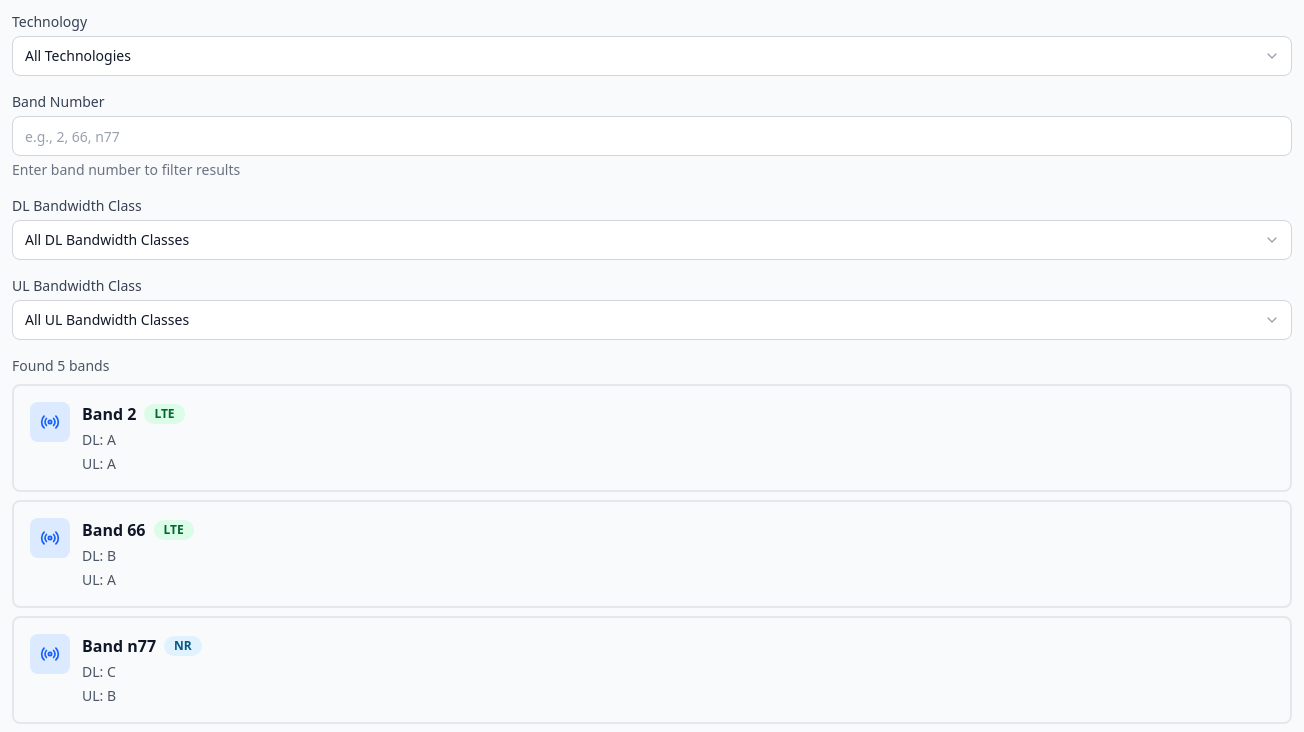
Scenario: BandSearch › Bandwidth class filtering › filters bands by both DL and UL bandwidth classes
Expected: the text "Found 5 bands" is shown, [12, 356, 109, 375]
Select "A" in the dropdown labelled "DL Bandwidth Class": (652, 240) [12, 220, 1292, 260]
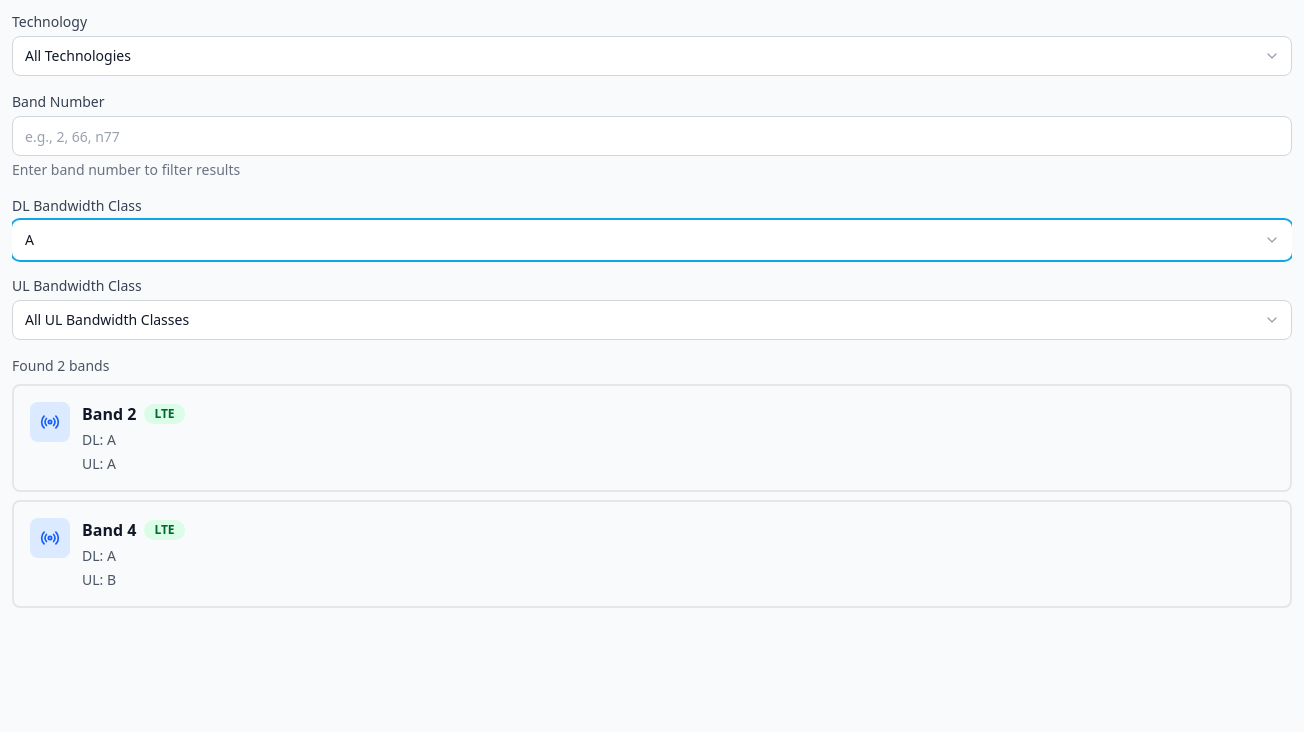
Select "A" in the dropdown labelled "UL Bandwidth Class": (652, 320) [12, 300, 1292, 340]
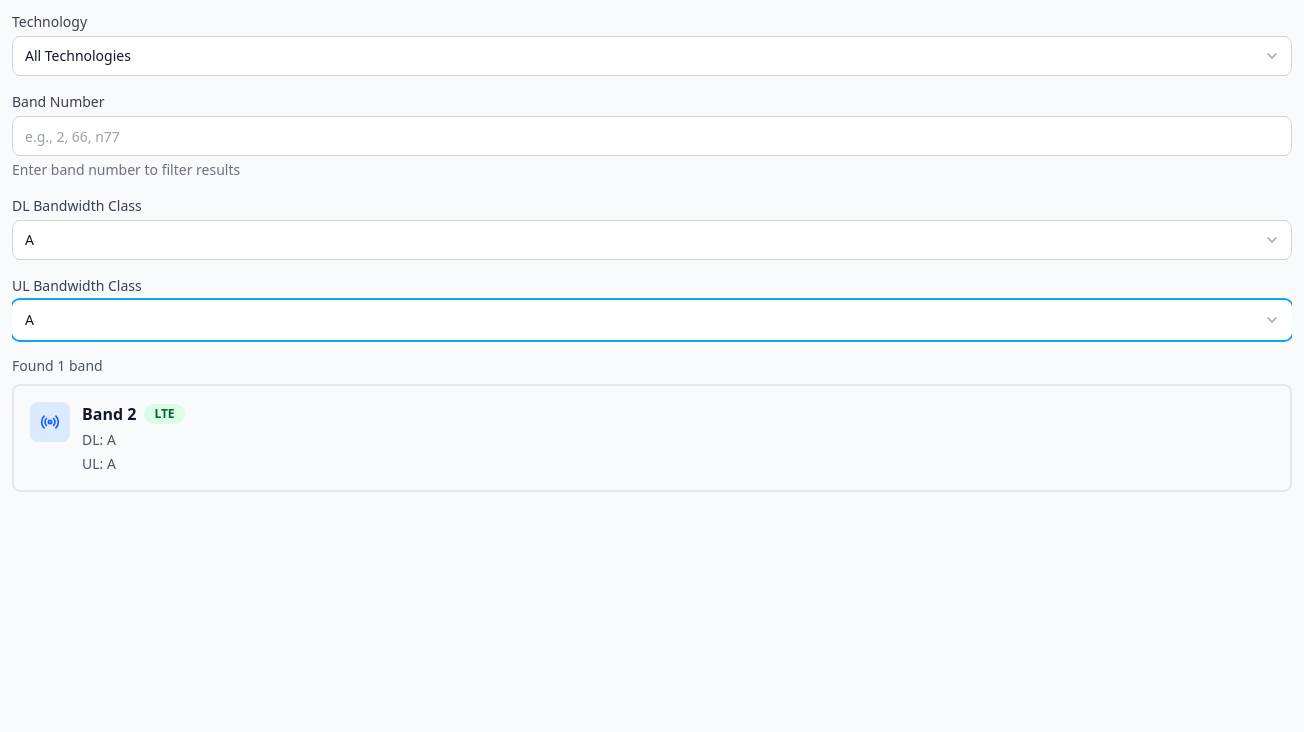
Expected: the text "Band 2" is shown, [82, 402, 136, 426]
Result: the text "Found 1 band" is shown at [12, 356, 103, 375]
Result: the button "Band 4" is gone
